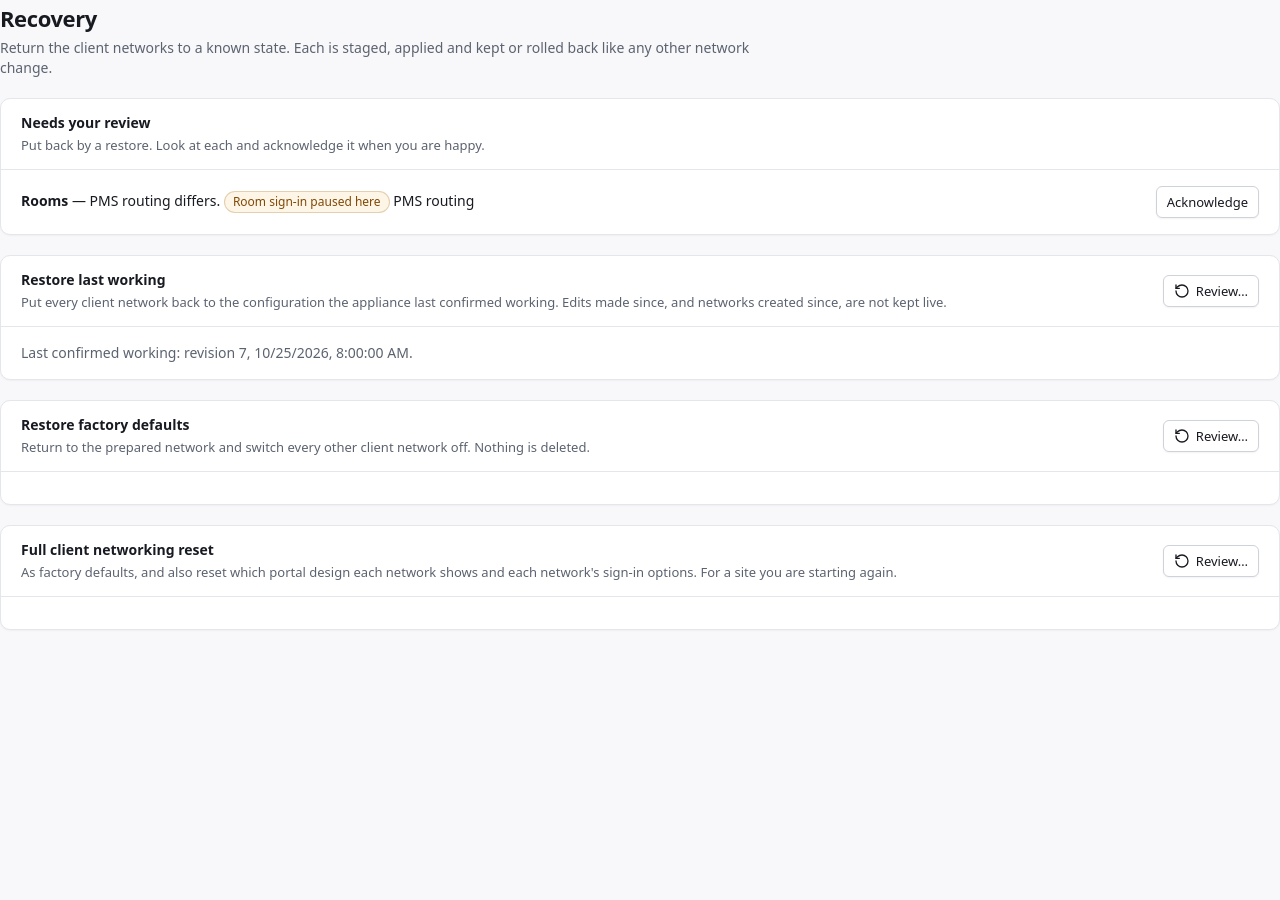
Scenario: recovery page › will not stage a plan with a conflict or one that changes nothing
Expected: the text "Last confirmed working: revision 7, 10/25/2026, 8:00:00 AM." is shown, [21,343,413,362]
Click the button "Review…" in the row of "Restore factory defaults" at (1211, 436), box [1163,420,1259,452]
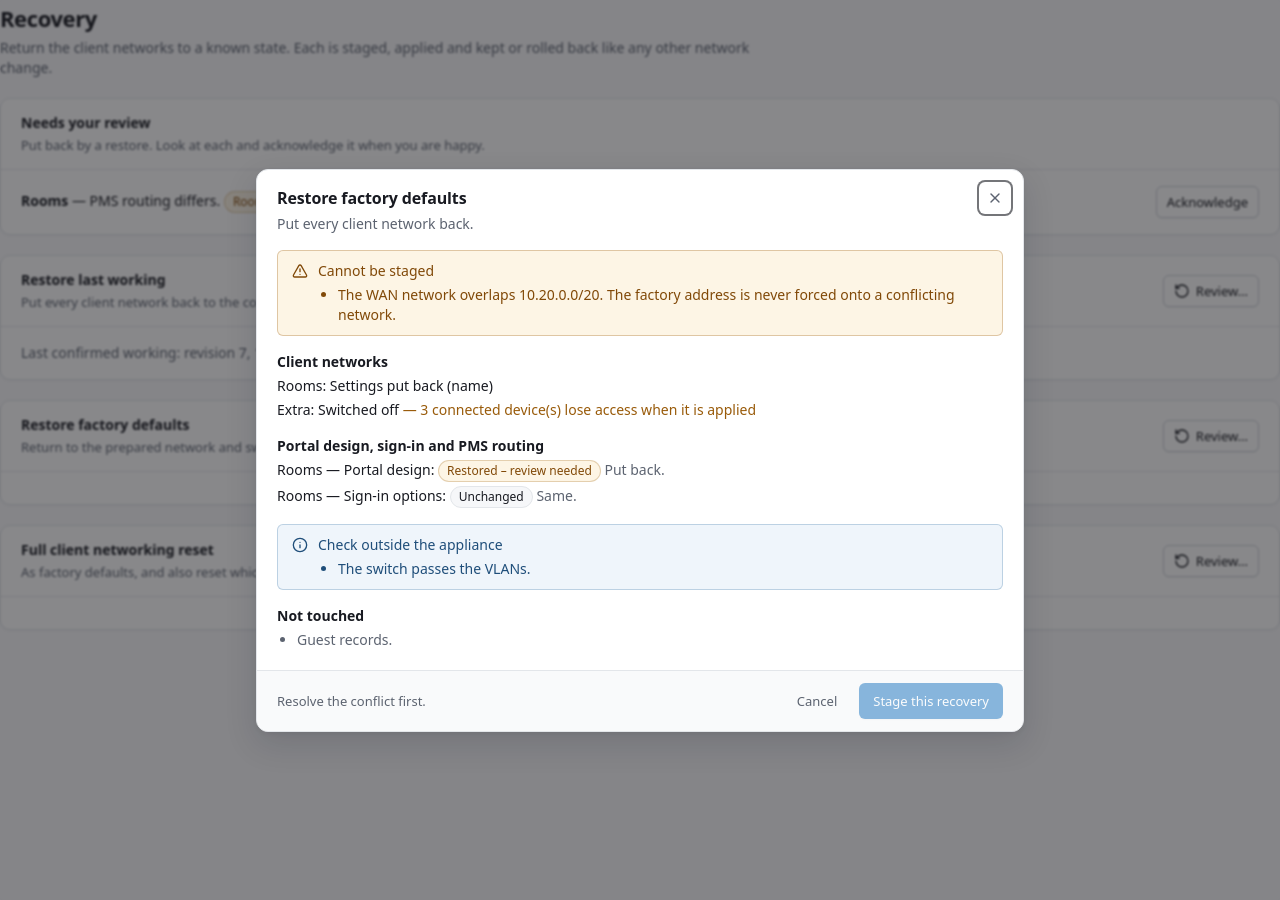
Now the text "Cannot be staged" is shown, box [318,260,434,280]
Now the button "Stage this recovery" is disabled, box [859,682,1003,718]
